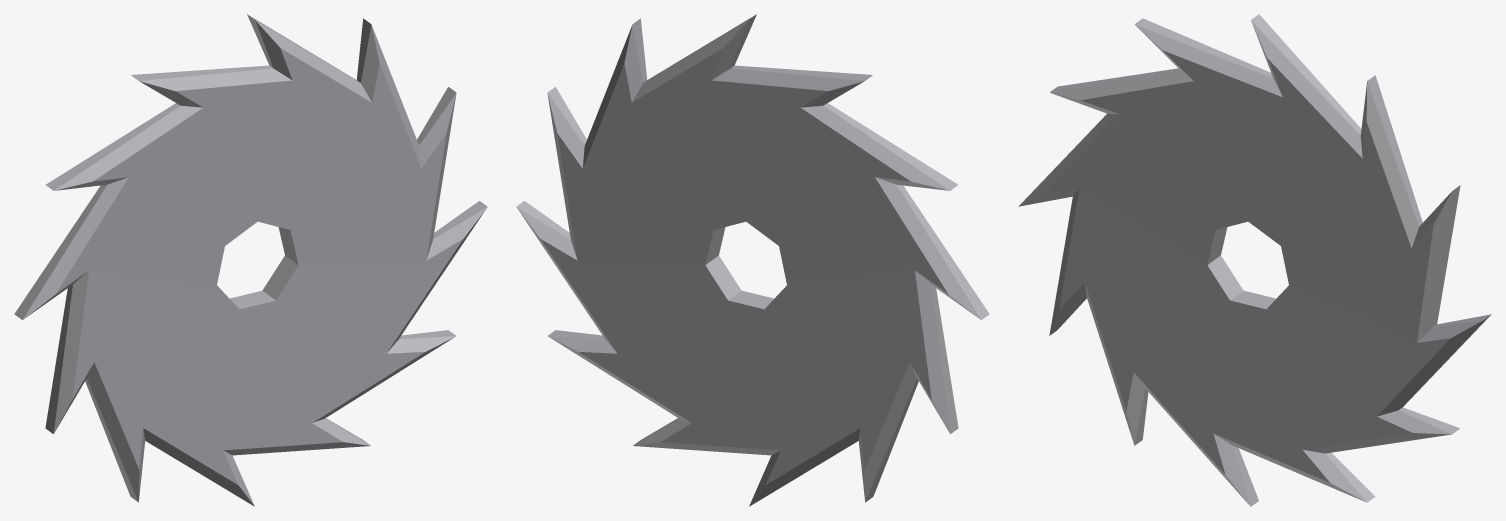
File: Blade.fbx
The picture shows the model from 3 angles, left to right: view 1: azimuth 30°, elevation 25°; view 2: azimuth 150°, elevation 25°; view 3: azimuth 330°, elevation 25°; orthographic projection.
Visible parts, largest first — view 1: Blade; view 2: Blade; view 3: Blade.
Boxes of the visible parts, x1,y1,x2,y2 form: Blade: (14, 14, 487, 506); Blade: (516, 14, 989, 506); Blade: (1018, 14, 1491, 506).
Size of the model in its own units: 52.37 by 52.37 by 3.3.
